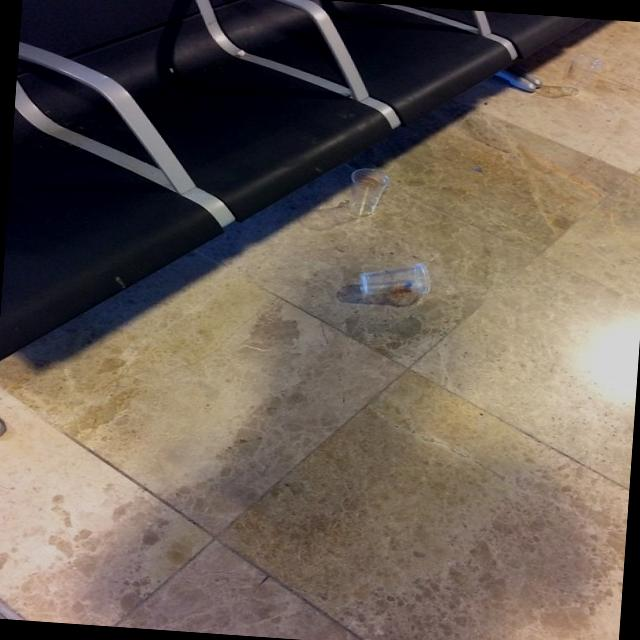Recycle: (356, 261, 440, 302), (344, 167, 389, 220), (560, 50, 603, 94)
